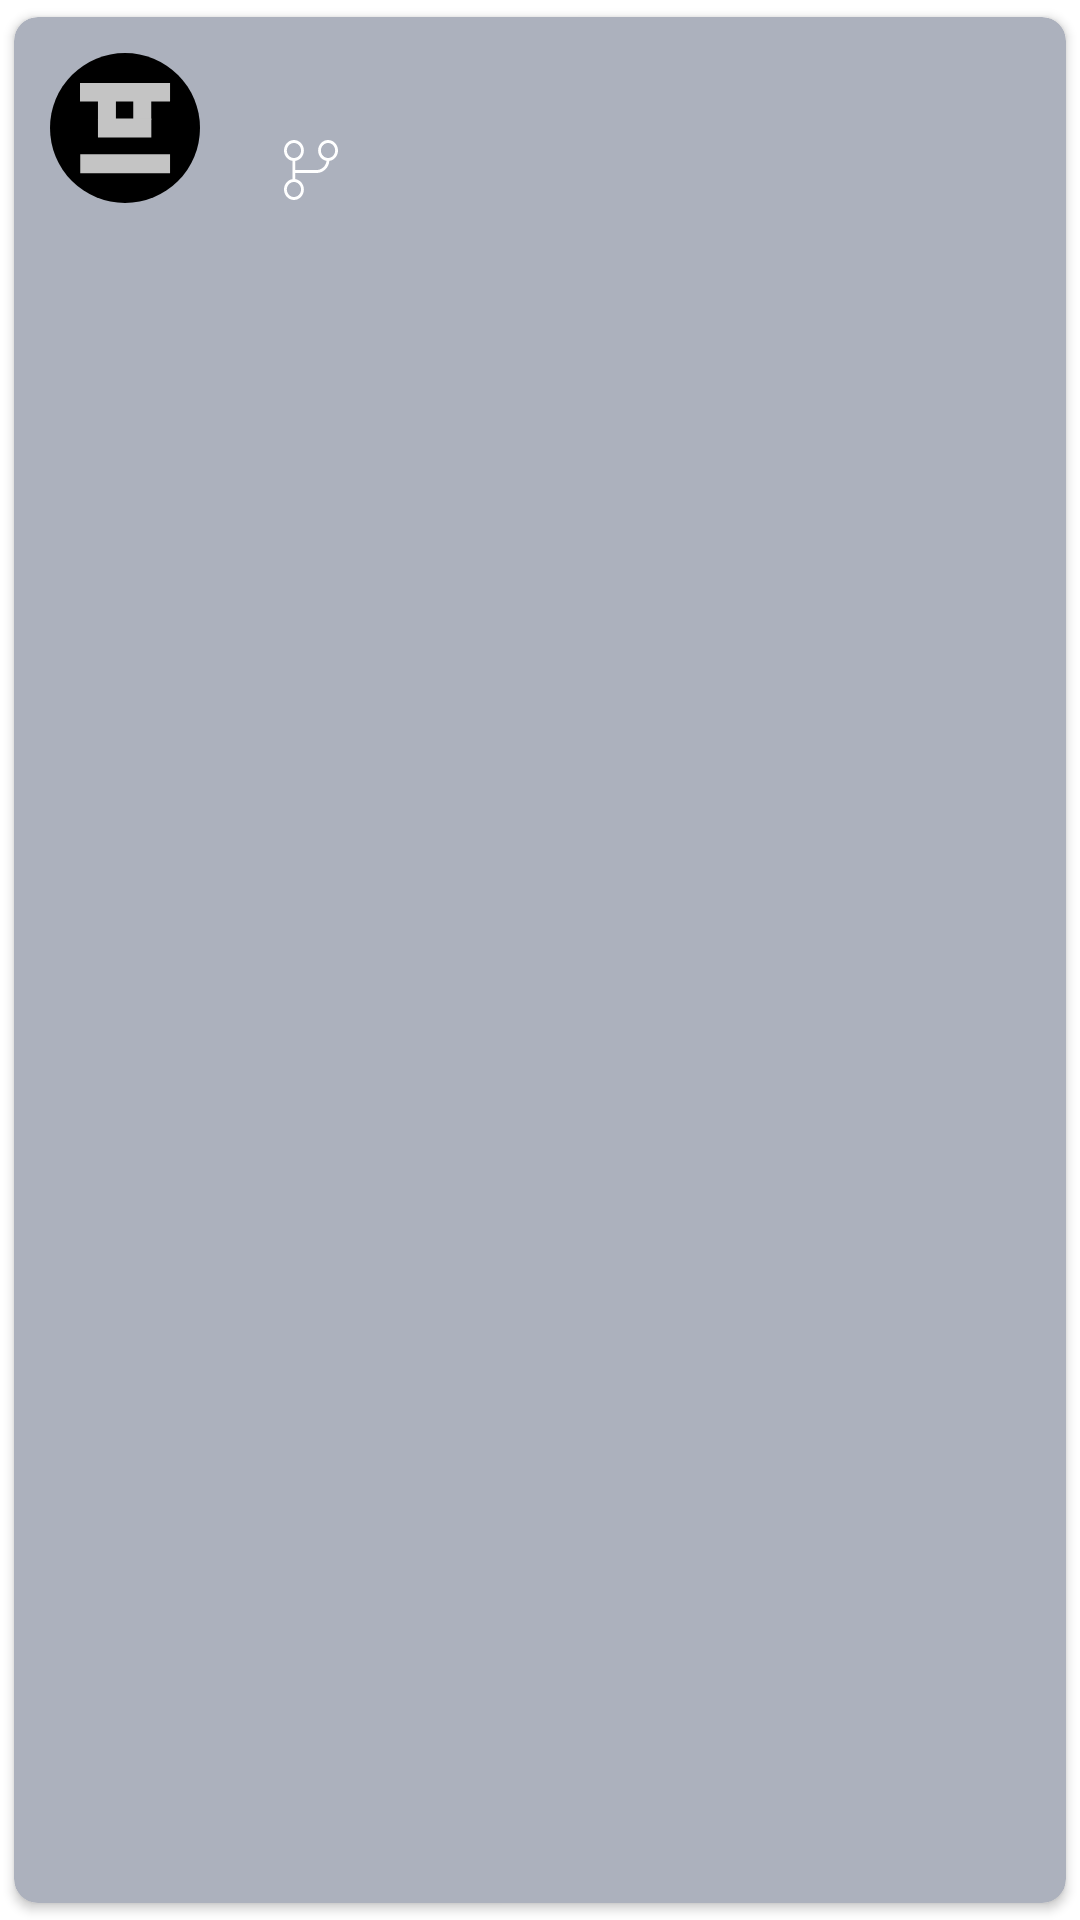

Named icons in this screenshot (1080x1920) and their centers, [x,y]:
fork: [311,170]
